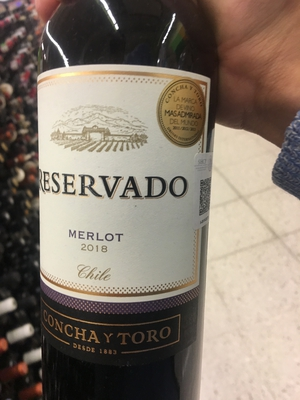reservado merlot: (21, 18, 239, 376)
